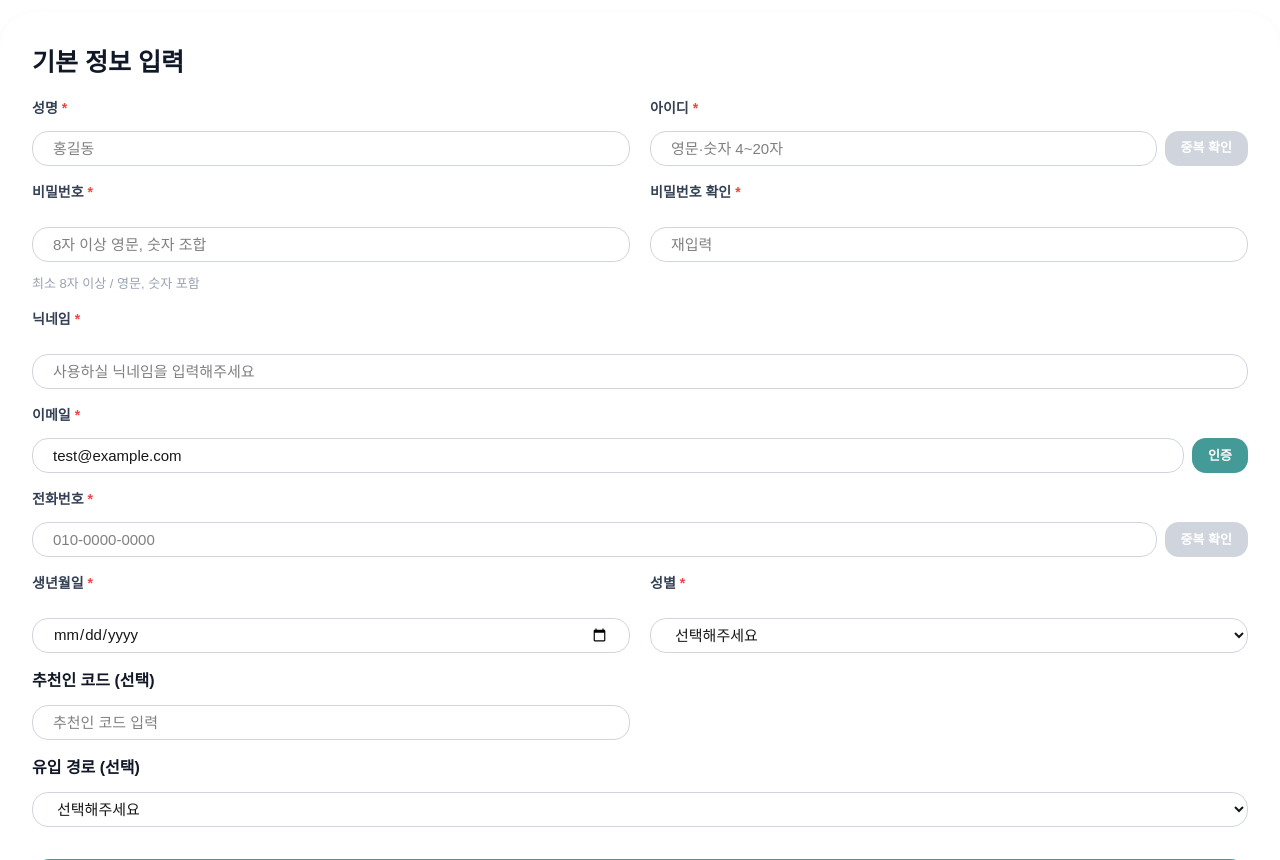
RegisterInfoForm 컴포넌트 테스트 › 이미 가입된 이메일이면 이메일 중복 안내 문구가 보인다
The width and height of the screenshot is (1280, 860).
Click the button with aria-label "인증: 이메일 인증번호 발송": (1220, 456) left=1192, top=438, right=1248, bottom=473
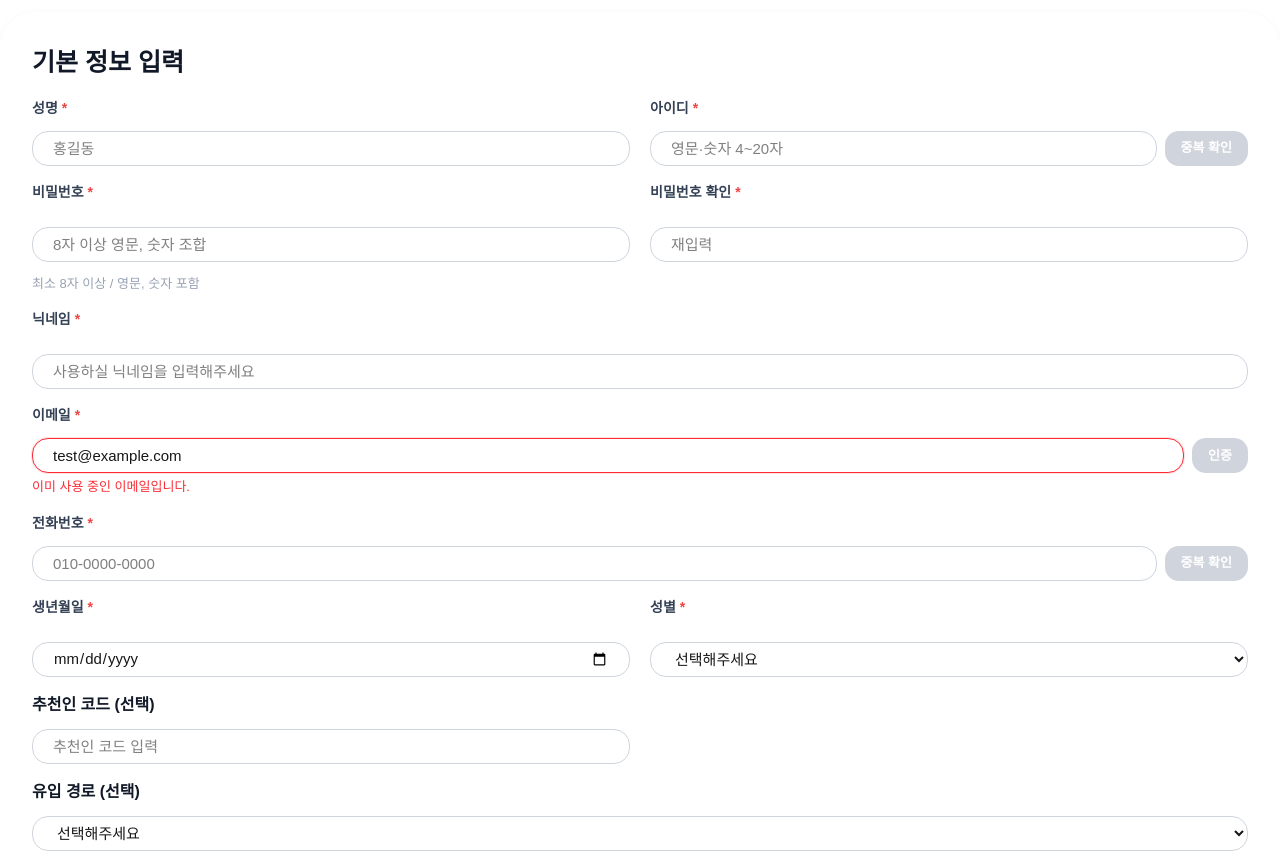
Now the text "이미 사용 중인 이메일입니다." is shown, box left=32, top=479, right=190, bottom=494
